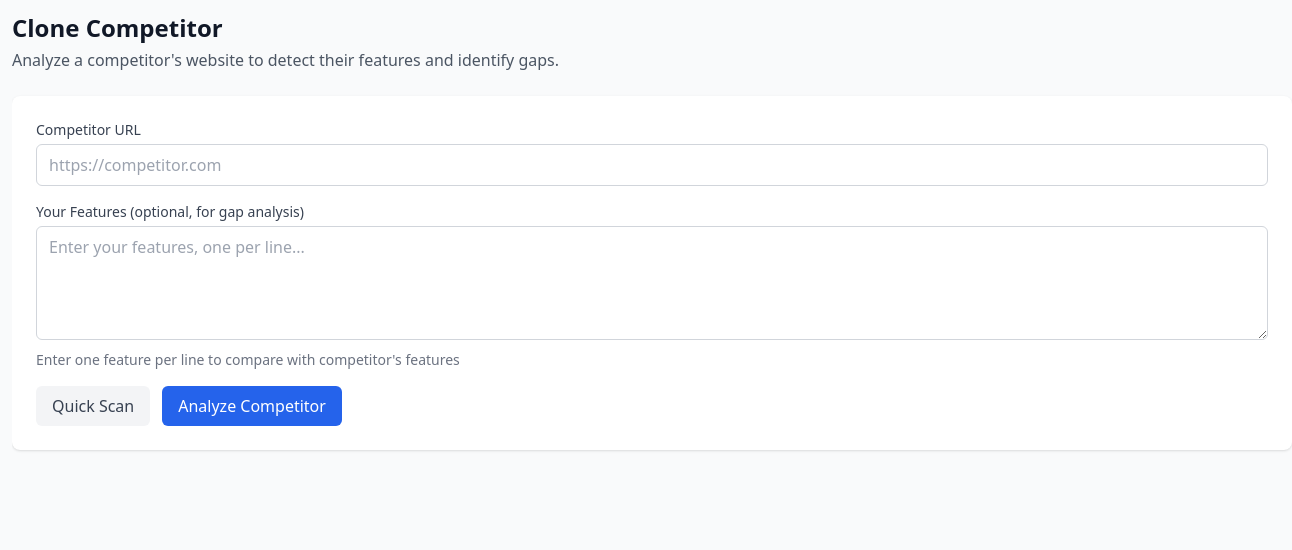
Test: ClonePage › should display error when URL is empty
Click the button "Analyze Competitor". click: (252, 406)
box: [162,386,342,426]
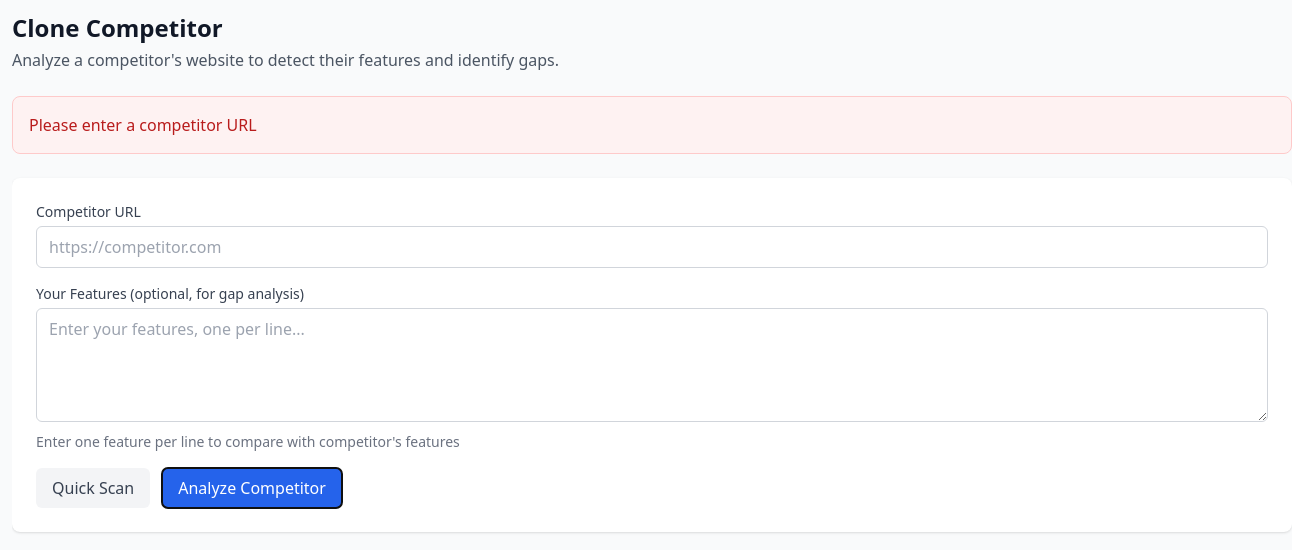
Check: the text "Please enter a competitor URL" is shown, box [29,114,257,136]
